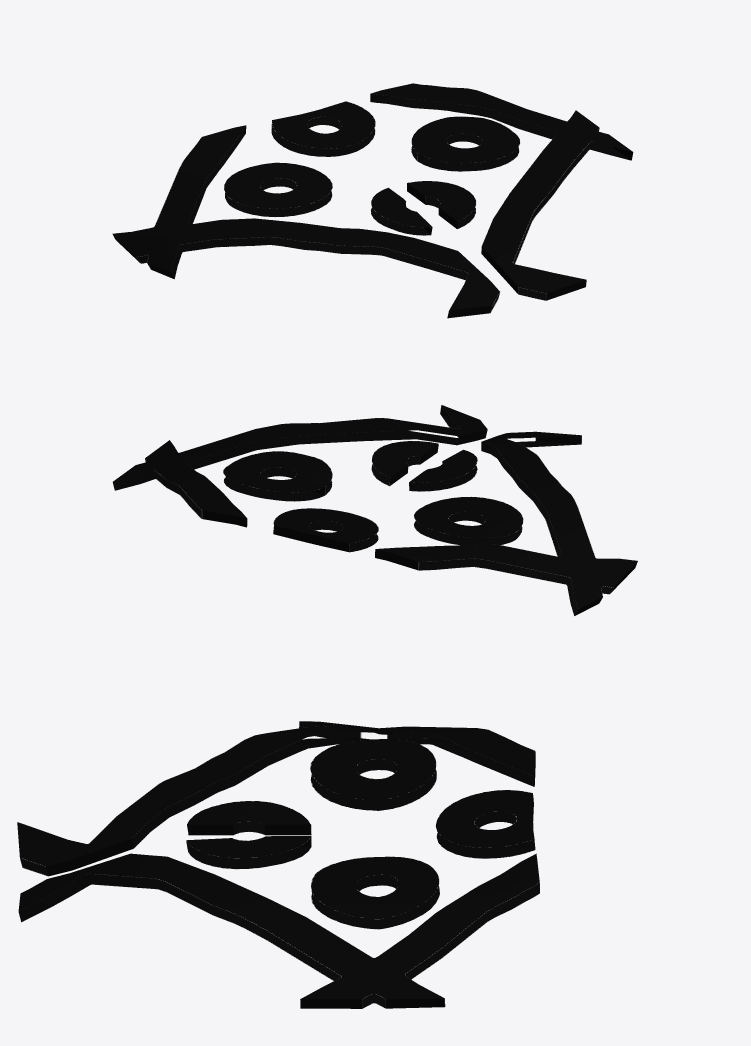
Rendered from BandAid3.fbx.
The picture shows the model from 3 angles, top to bottom: view 1: azimuth 30°, elevation 25°; view 2: azimuth 150°, elevation 25°; view 3: azimuth 270°, elevation 25°; orthographic projection. The views are drawn at different scales.
Parts seen in each view (by area): view 1: Plaster; view 2: Plaster; view 3: Plaster.
Boxes of the visible parts, box(x1,y1,x2,y2) form: Plaster: box(112, 83, 633, 318); Plaster: box(112, 405, 637, 615); Plaster: box(17, 721, 539, 1008).
Size of the model in its own units: 0.0715 by 0.00869 by 0.0758.
